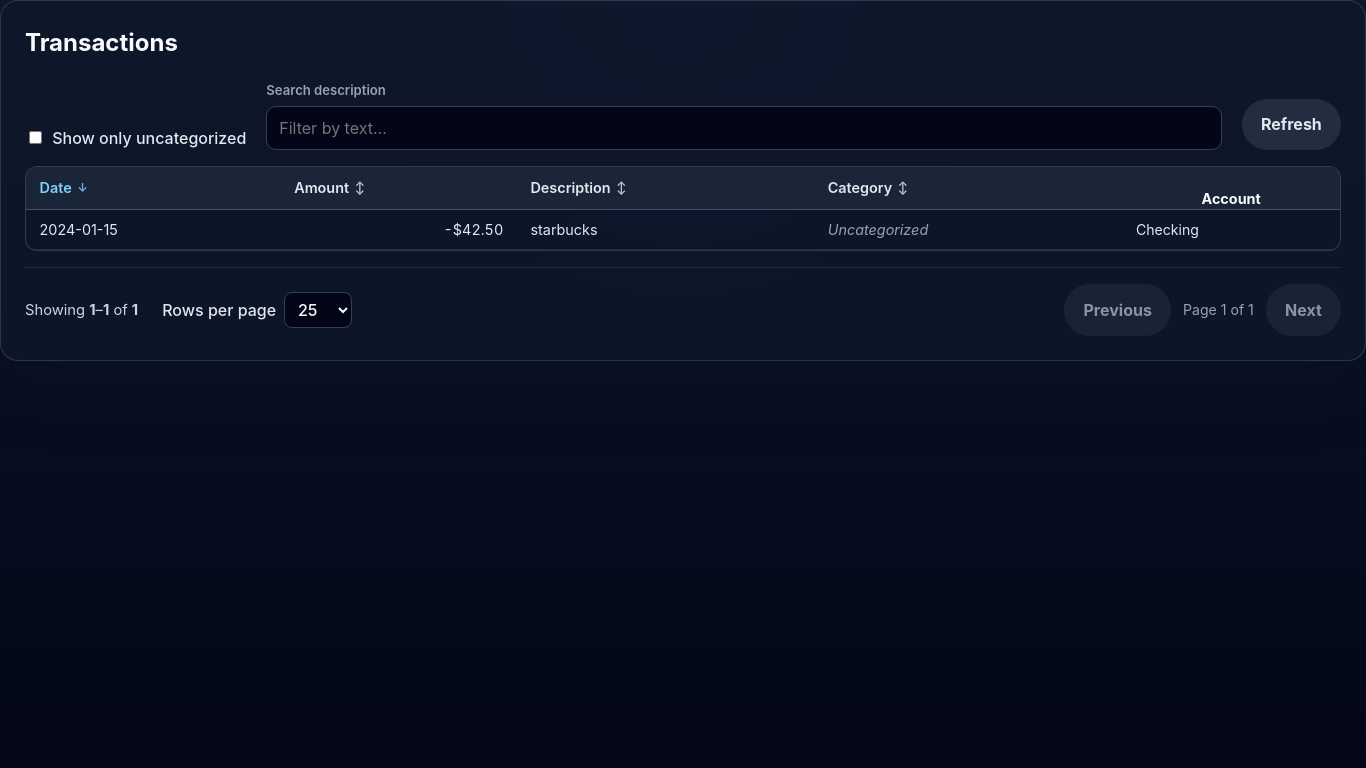
Test case: TransactionsPage › creates a non-retroactive rule without requiring a preview
The width and height of the screenshot is (1366, 768).
Click the text "starbucks".
click(564, 229)  # box 517,210 -> 814,250
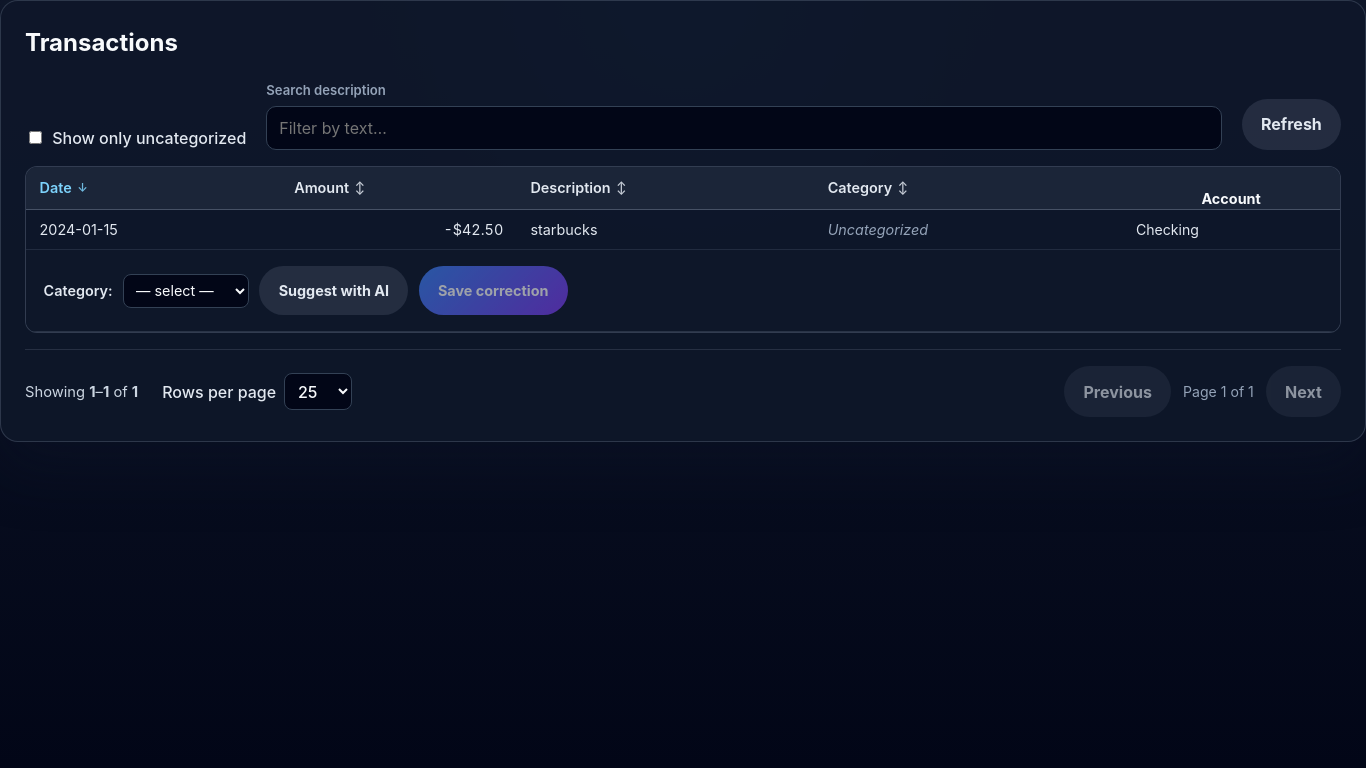
Select "Food & Drink" in the dropdown labelled "Category:" at (186, 291), box 123,274 -> 249,308
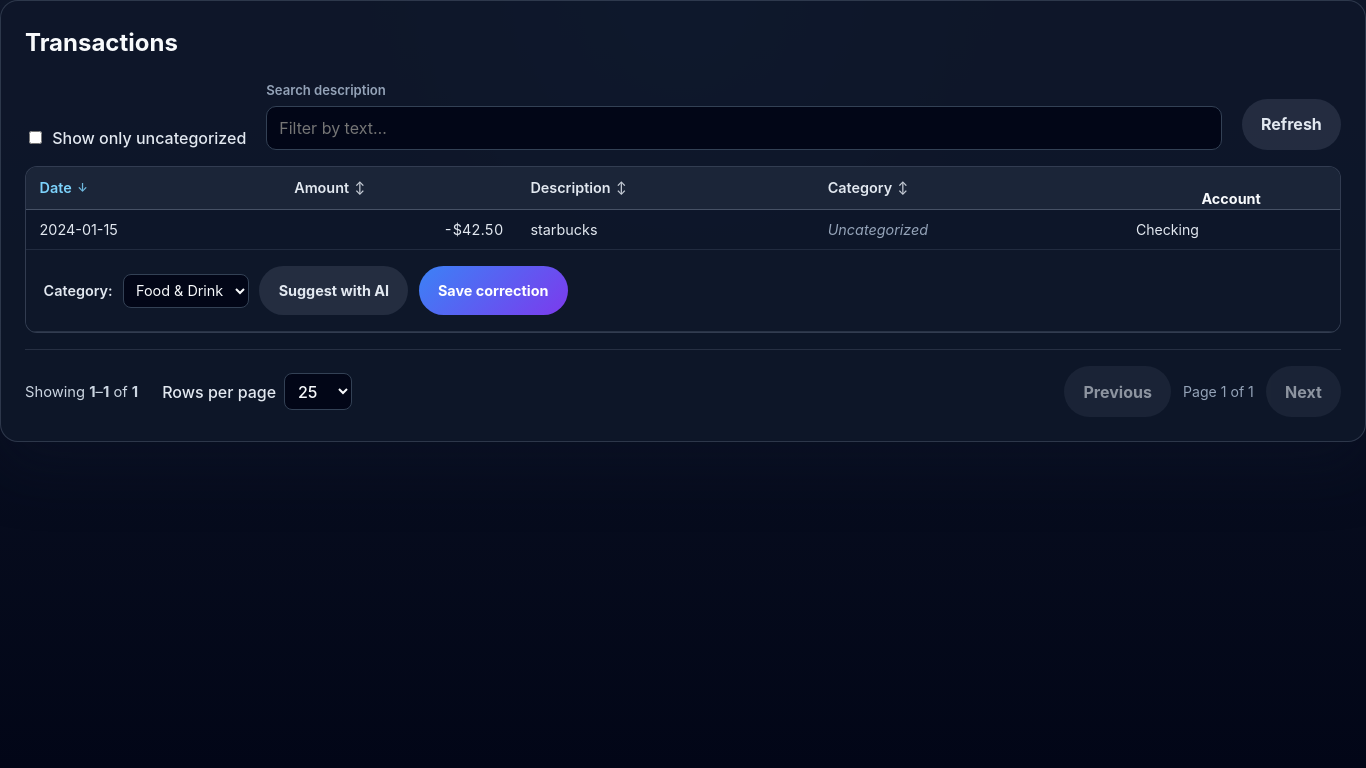
Click the button "Save correction".
click(493, 291)  # box 419,266 -> 568,315
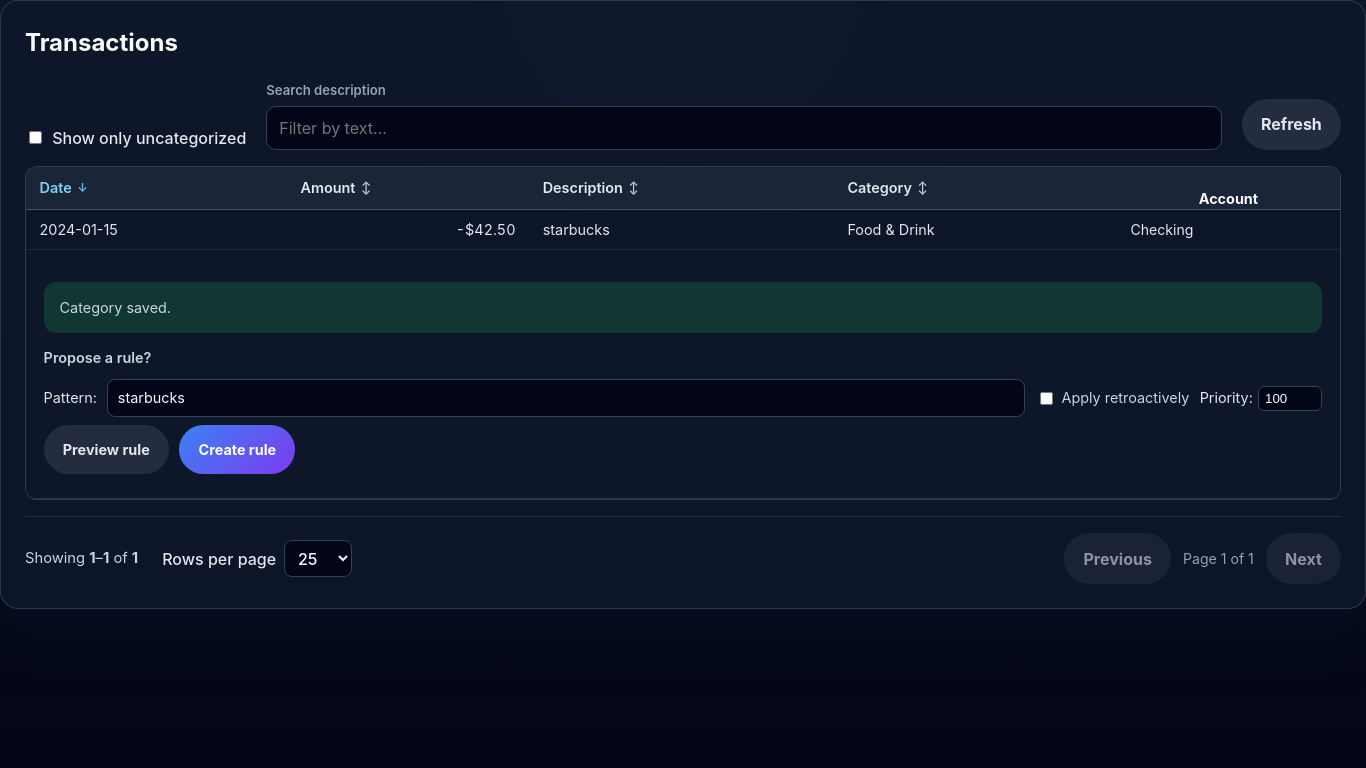
Check: the text "Propose a rule?" is shown, box 44,349 -> 151,366
Create rule without preview (no retroactive checked)
Click the button "Create rule".
click(237, 450)  # box 179,425 -> 295,474
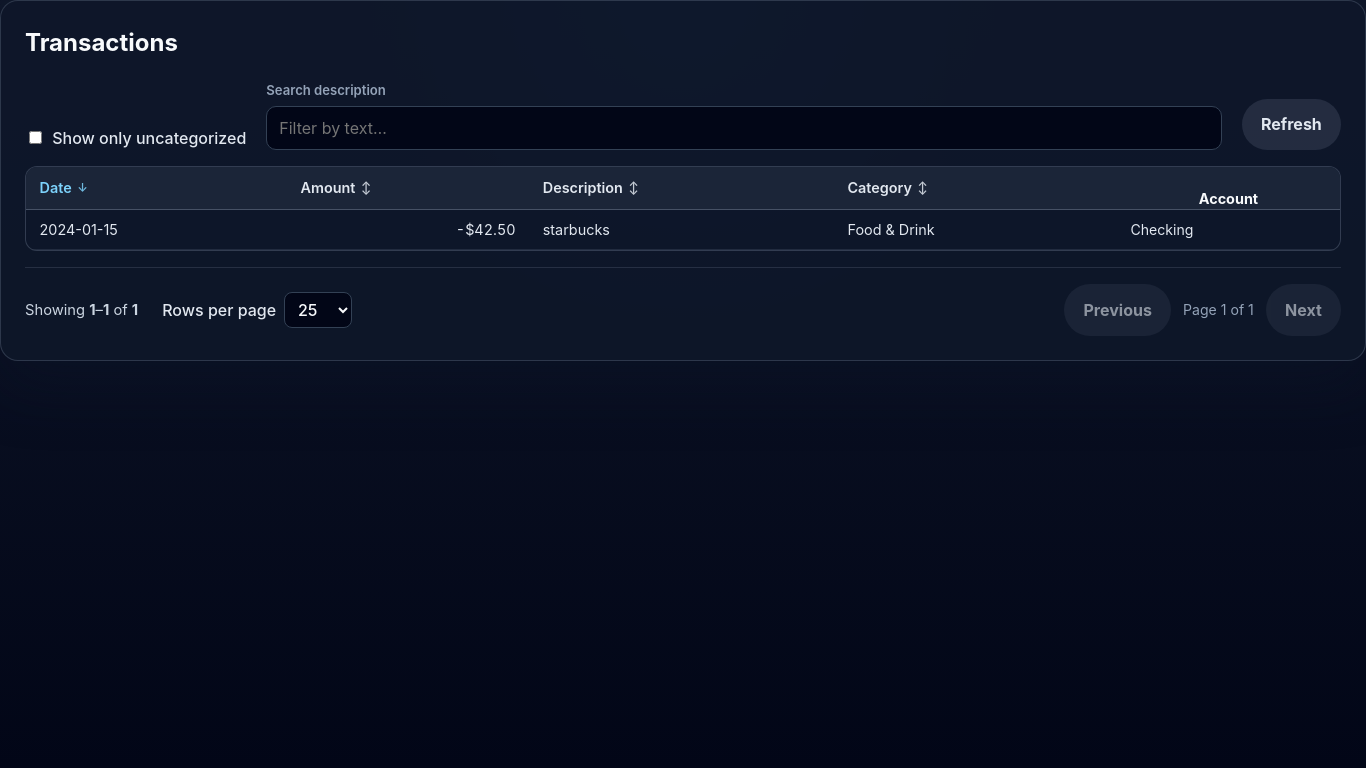
Check: the text "Propose a rule?" is gone
